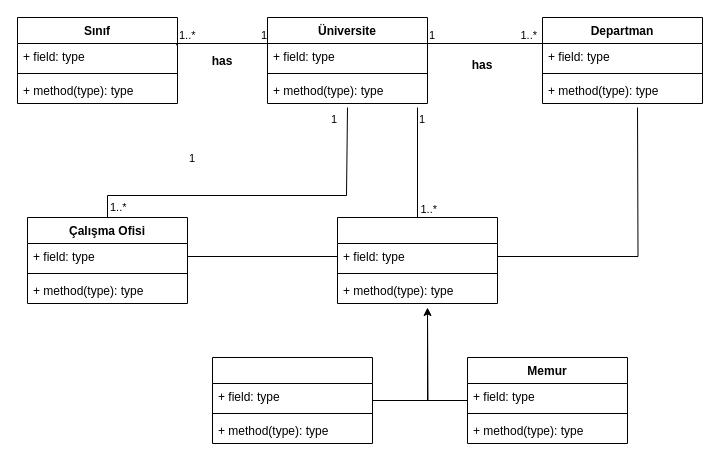
The diagram is 720 pixels wide and 464 high, and some of its shapes have lost their labels. The shapes that lost their labels are listed below. From the top down, each one's box as (x1, y1, x2, y2) in pixels, then its label:
(336, 216, 498, 304): Çalışanlar
(212, 356, 372, 444): Profesör
